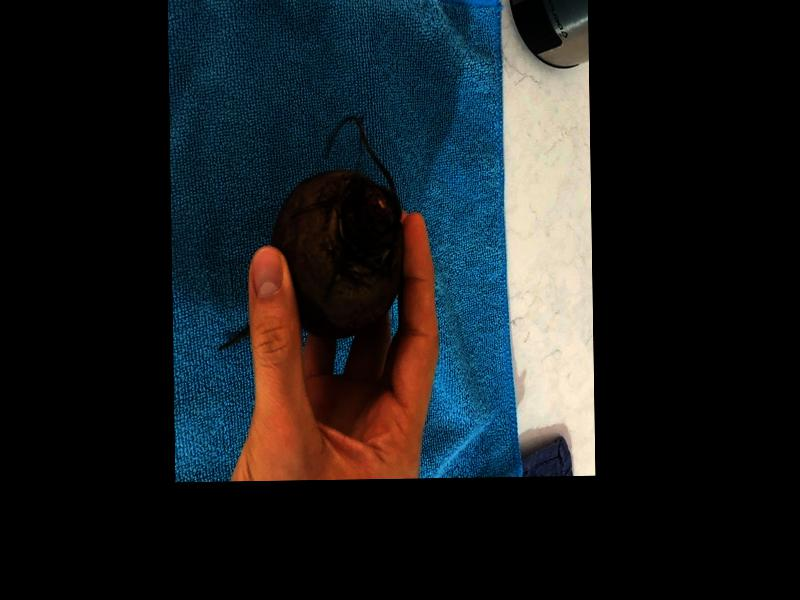Beet: (215, 116, 404, 350)
